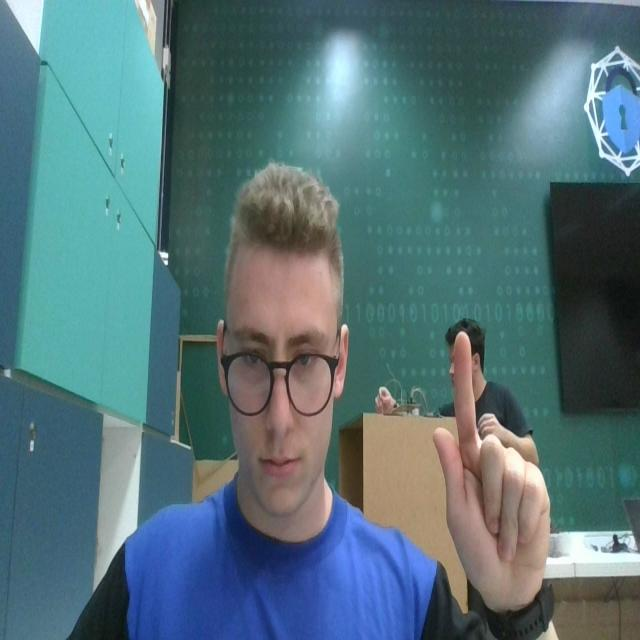G: (434, 326, 554, 606)
